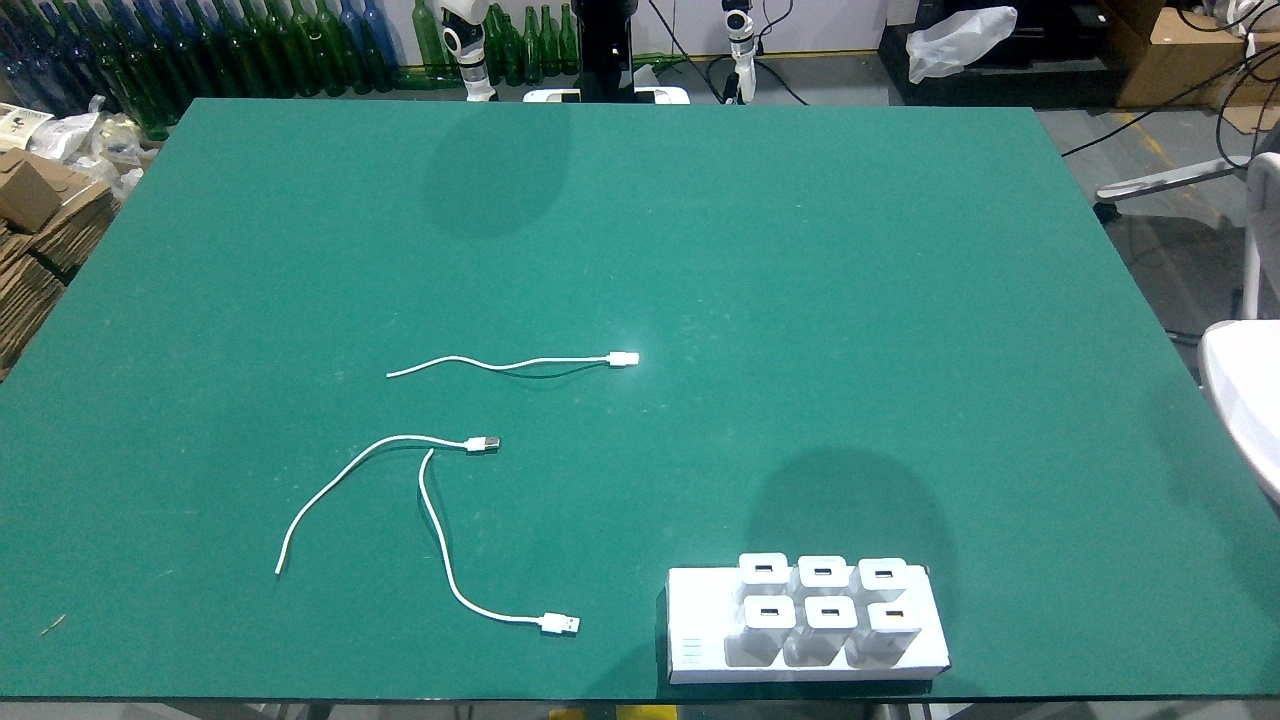usb_a_port: (873, 568, 897, 580), (752, 564, 776, 575), (820, 607, 842, 618), (884, 608, 906, 619), (813, 566, 834, 577), (760, 606, 779, 618)
